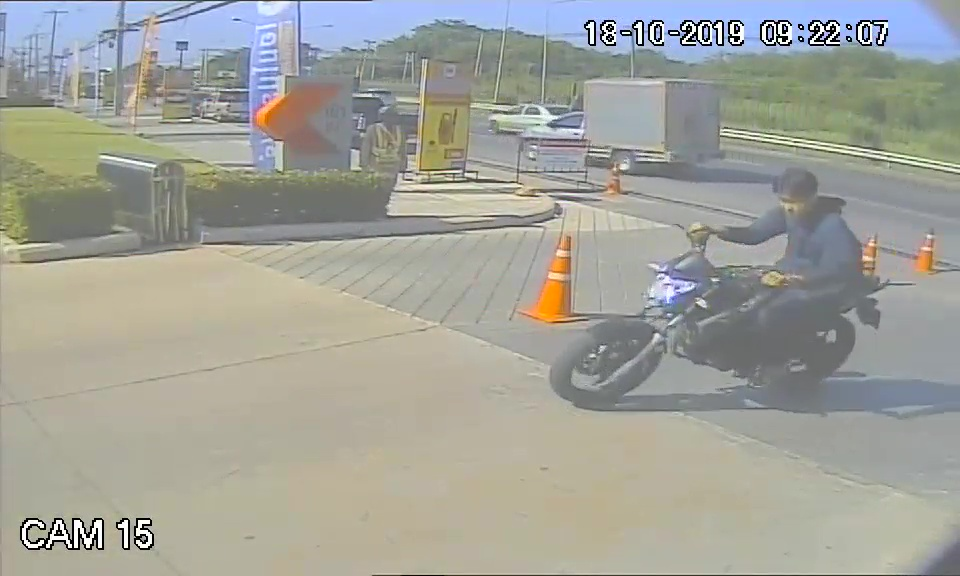motorcycle: (544, 243, 893, 407)
